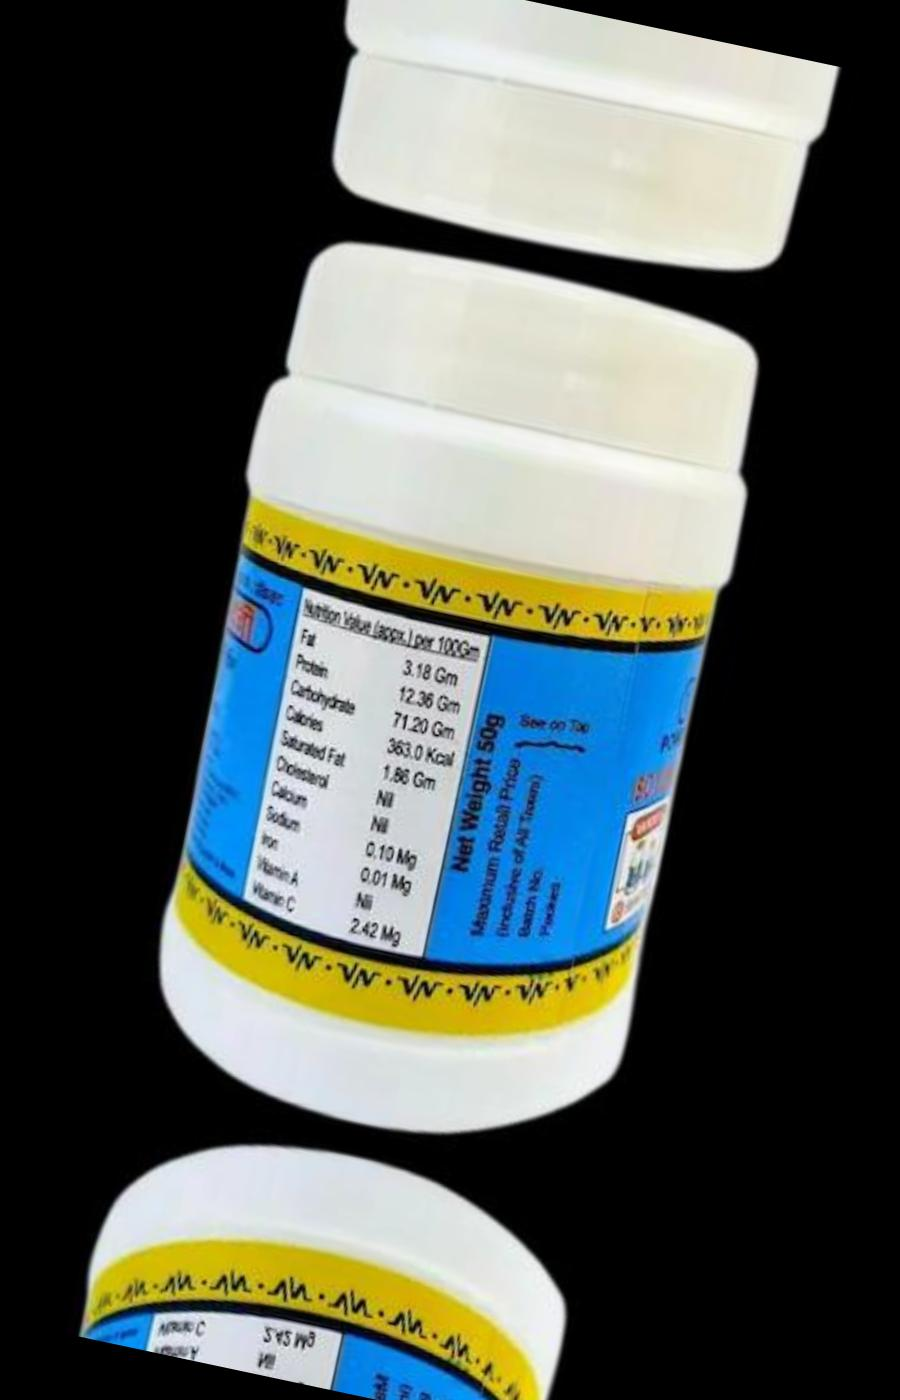Vandevi Bandhani No 1 Hing Powder 50 g: (98, 213, 794, 1194), (46, 1085, 609, 1400), (287, 0, 848, 304)
